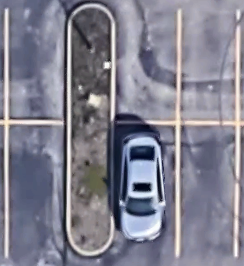Occupied: (113, 123, 178, 258)
Vacant: (6, 122, 67, 258), (178, 123, 238, 257), (113, 9, 179, 124), (5, 8, 69, 123), (179, 9, 238, 124)
